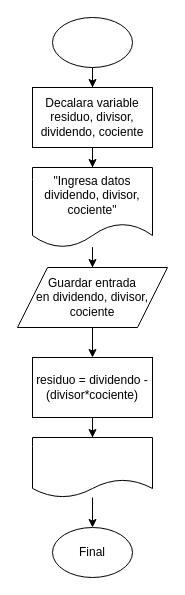
The diagram is 185 pixels wide and 595 high, and some of its shapes have lost their labels. Here are the shapes that lost their labels. From the top down, the centre of each, then its label:
At pixel 92 42: "Inicio".
At pixel 92 467: "Residuo".
